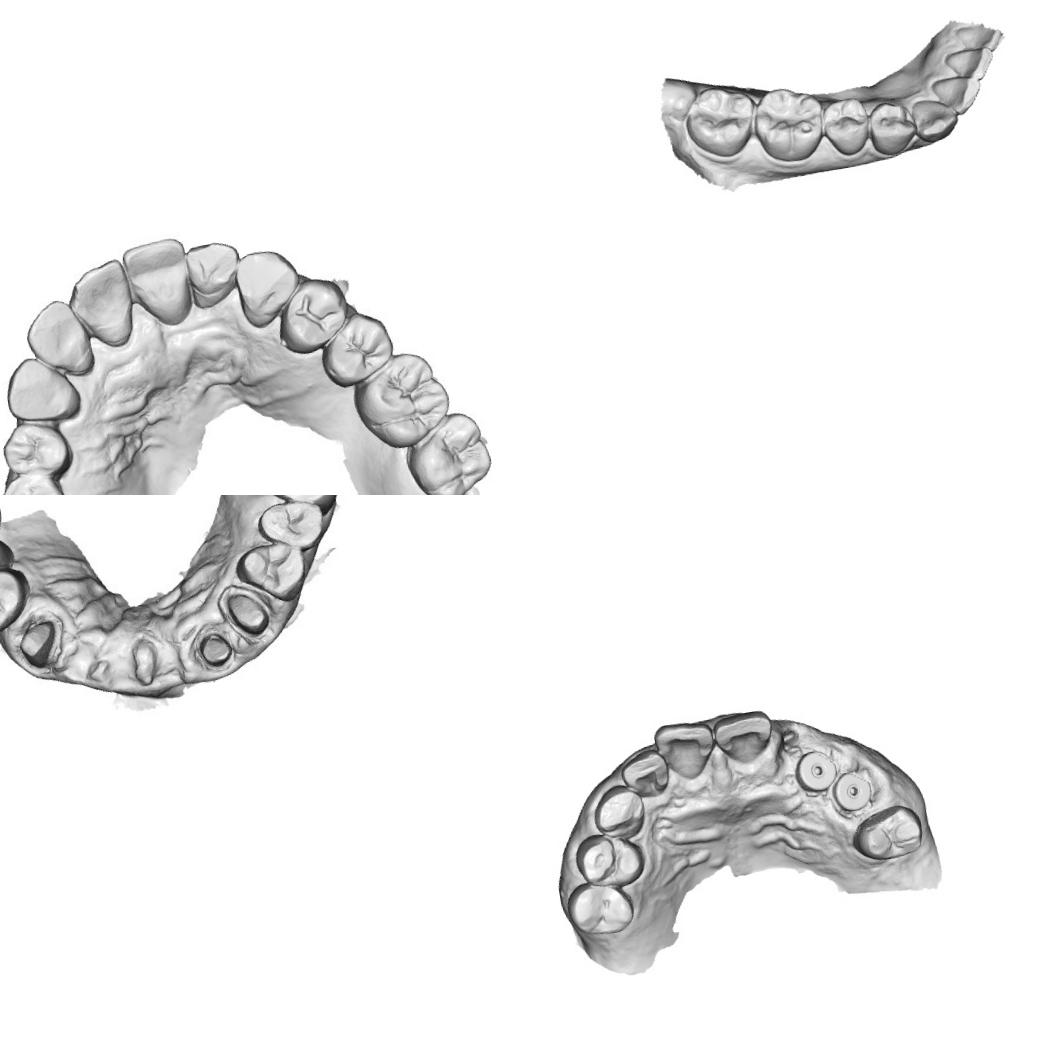canine: (0, 349, 84, 430), (230, 247, 300, 328), (589, 780, 650, 844), (908, 94, 961, 146)
crown: (13, 616, 64, 667), (224, 588, 274, 640), (192, 625, 242, 672)
implant: (790, 744, 844, 801), (830, 765, 875, 818)
incisor: (65, 254, 142, 352), (124, 233, 200, 329), (24, 295, 98, 380), (650, 714, 720, 784), (710, 703, 779, 771), (184, 238, 244, 310), (618, 746, 674, 803), (928, 72, 986, 121), (941, 44, 997, 87), (952, 19, 1006, 57)
molar: (360, 352, 450, 449), (747, 80, 831, 168), (678, 78, 762, 164), (409, 416, 493, 495)
premolar: (310, 312, 399, 392), (845, 798, 930, 868), (230, 534, 310, 608), (571, 825, 651, 894), (562, 874, 642, 941), (282, 282, 352, 355), (252, 495, 330, 559), (0, 416, 77, 480), (862, 95, 922, 159), (818, 94, 875, 161), (0, 563, 35, 636), (0, 468, 68, 495), (0, 523, 19, 595)
